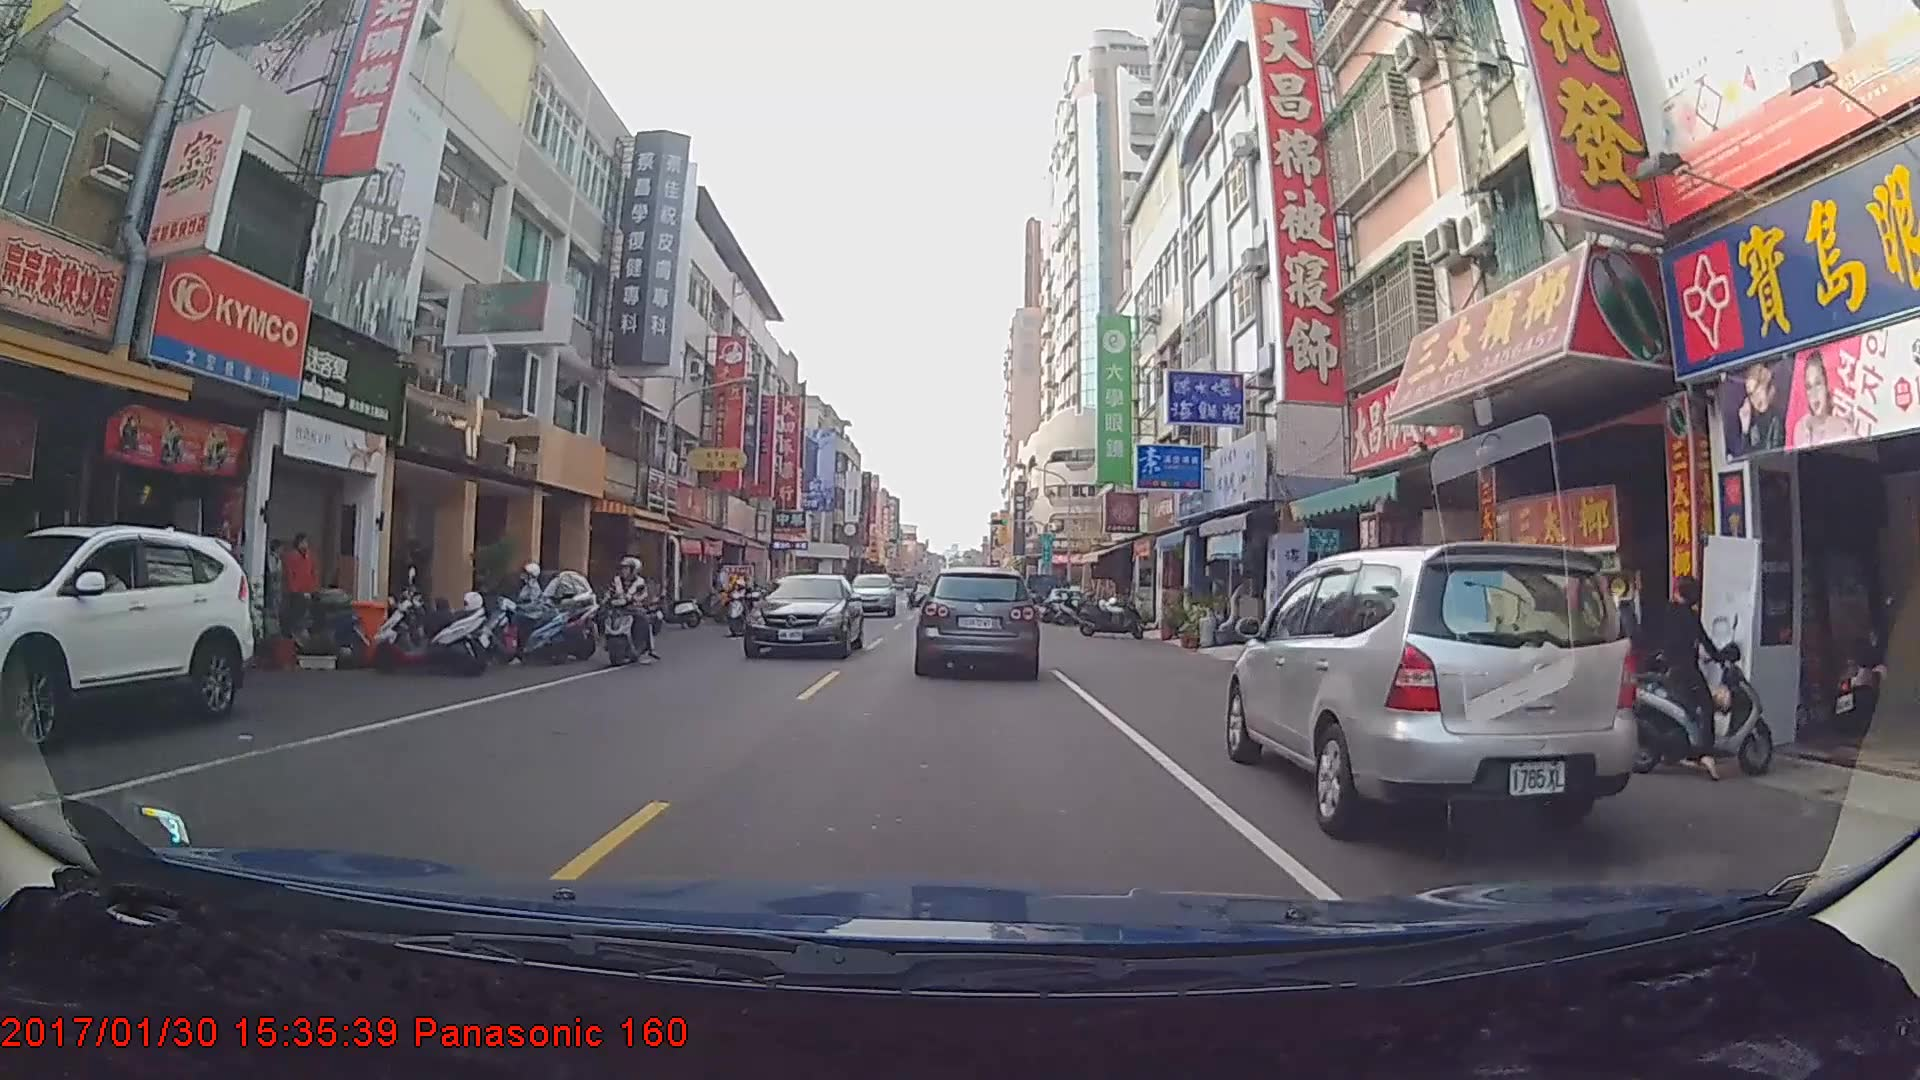pedestrian: (281, 529, 325, 638), (259, 533, 287, 626)
rider: (1598, 572, 1789, 788), (597, 551, 663, 668), (738, 576, 767, 635)
vehicle: (1224, 540, 1631, 837), (0, 523, 248, 751), (918, 564, 1038, 677), (744, 571, 864, 660), (845, 571, 897, 616)
